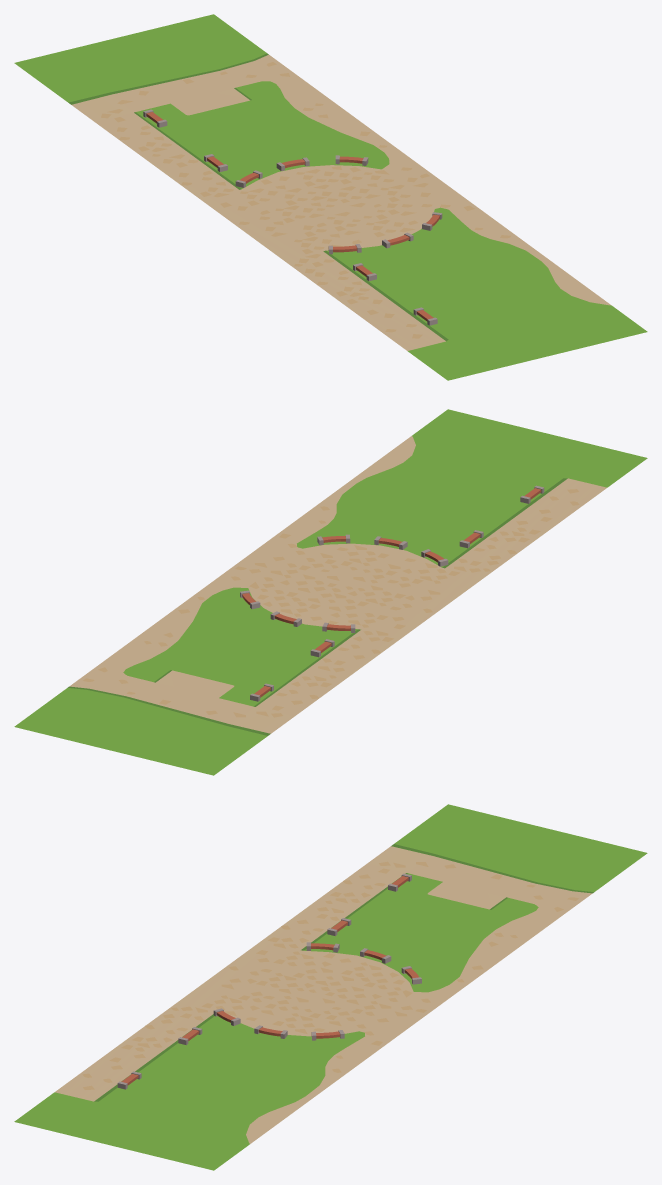
The model's file is start.FBX.
The picture shows the model from 3 angles, top to bottom: view 1: azimuth 30°, elevation 25°; view 2: azimuth 150°, elevation 25°; view 3: azimuth 330°, elevation 25°; orthographic projection.
Parts seen in each view (by area): view 1: start; view 2: start; view 3: start.
Boxes of the visible parts, x1,y1,x2,y2 form: start: [14, 14, 647, 380]; start: [14, 409, 647, 775]; start: [14, 804, 647, 1170].
Size of the model in its own units: 5839 by 149 by 21939.
Materials: 1 (1 with a texture image).
